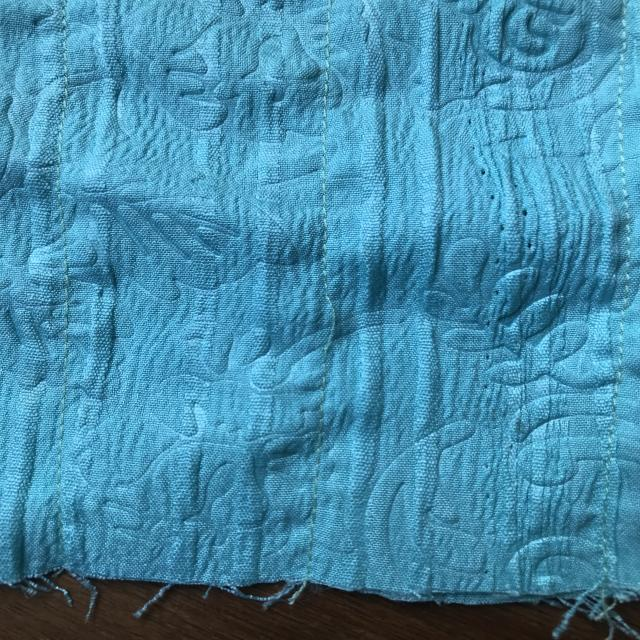skip: (312, 282, 350, 370)
